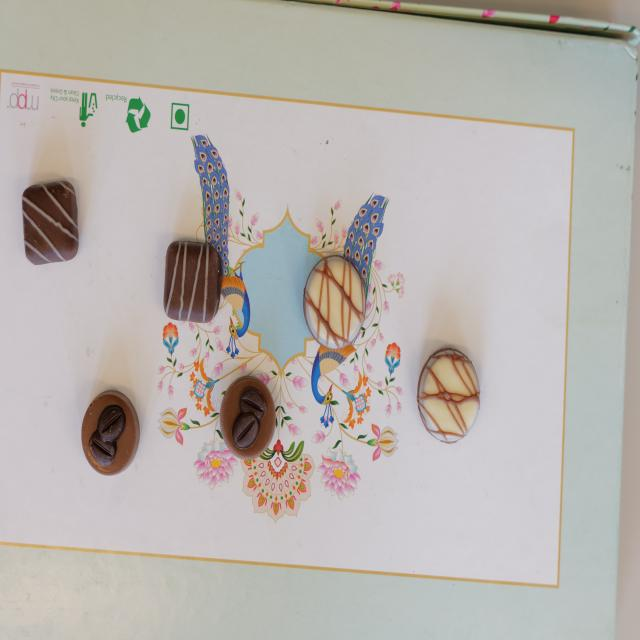Arabia: (82, 389, 139, 476), (221, 374, 277, 460)
Creme_brulee: (420, 346, 480, 442), (306, 255, 367, 347)
Stracciatella: (22, 179, 80, 267), (165, 236, 222, 324)
